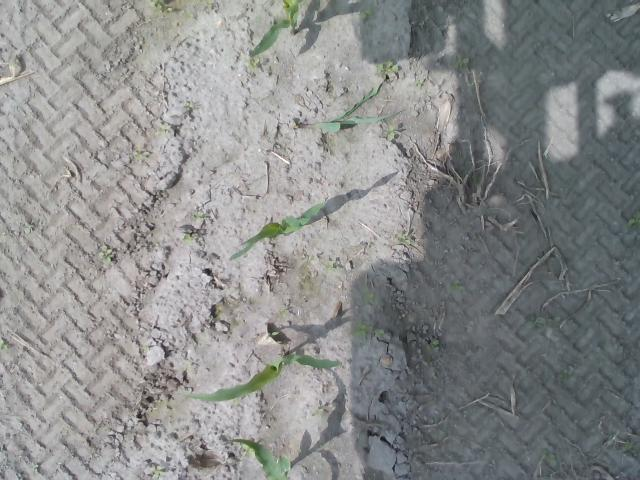Maize: (181, 350, 339, 404), (283, 78, 398, 134), (228, 199, 330, 262), (246, 0, 302, 58), (225, 435, 292, 480)
Weeds: (356, 320, 386, 337), (374, 59, 400, 76), (148, 0, 172, 13), (454, 56, 471, 71), (622, 438, 640, 452), (98, 246, 112, 264), (626, 215, 640, 230), (245, 60, 261, 71), (384, 126, 396, 140), (449, 280, 463, 291), (150, 468, 162, 480), (399, 233, 412, 244), (183, 234, 193, 245), (312, 407, 322, 417), (414, 80, 425, 88), (267, 330, 279, 337), (324, 266, 336, 272), (142, 345, 150, 352), (432, 338, 439, 346)
